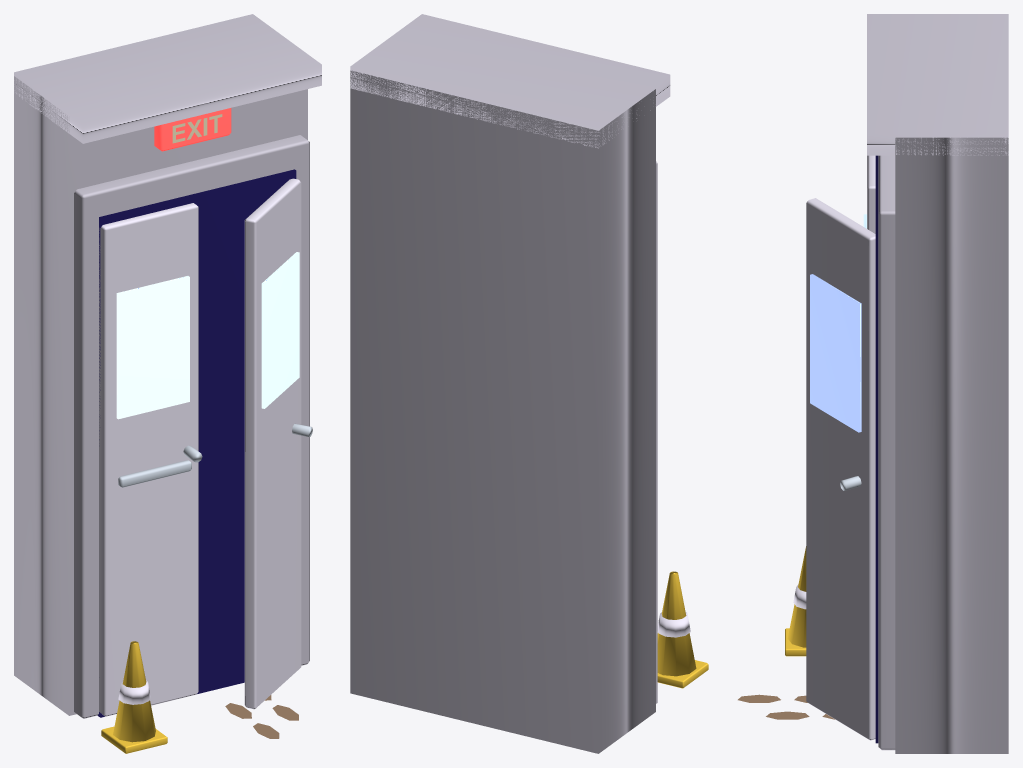
The model's file is wall_solarium_door.glb.
3 views of the same model, side by side, from view 1: azimuth 30°, elevation 25°; view 2: azimuth 150°, elevation 25°; view 3: azimuth 270°, elevation 25° (orthographic). The views are drawn at different scales.
Visible parts, largest first — view 1: Wall; view 2: Wall; view 3: Wall.
Part boxes in pixels (<box>): Wall: <box>14,14,321,753</box>; Wall: <box>350,14,708,753</box>; Wall: <box>738,14,1008,753</box>.
Bounding box in the file's own units: 1 × 2.41 × 0.958.
